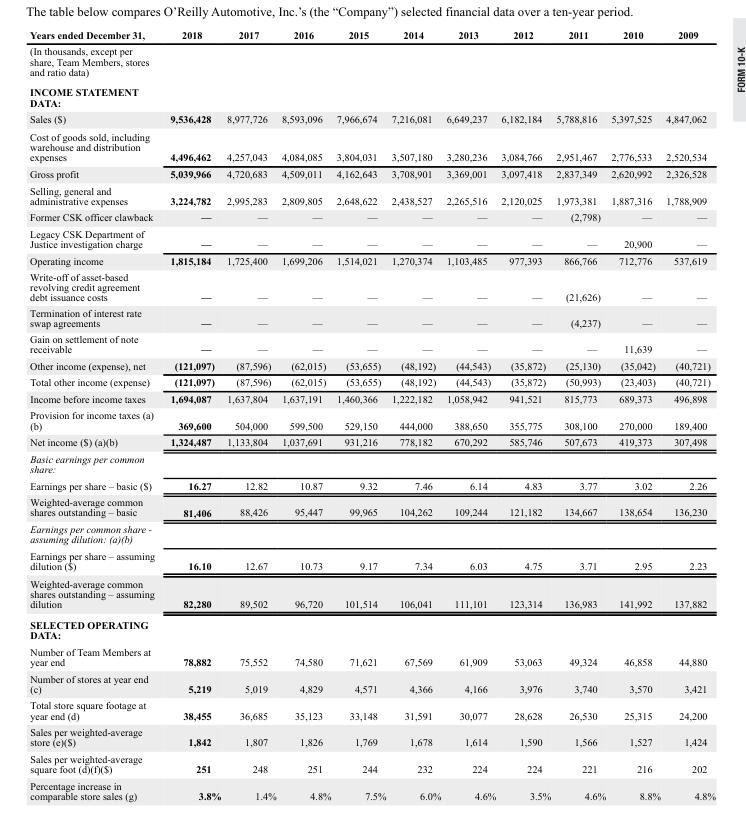table: (29, 28, 715, 801)
table column: (29, 28, 161, 801), (161, 28, 223, 801), (223, 28, 278, 801), (278, 28, 333, 801), (333, 28, 388, 801), (388, 28, 443, 801), (497, 28, 552, 801), (552, 28, 607, 801), (607, 28, 662, 801), (443, 28, 497, 801), (662, 28, 715, 801)
table column header: (29, 28, 715, 42)
table projected row header: (29, 42, 715, 81), (29, 81, 715, 110), (29, 614, 715, 642), (29, 520, 715, 547), (29, 450, 715, 476)
table row: (29, 574, 715, 614), (29, 42, 715, 81), (29, 127, 715, 165), (29, 268, 715, 304), (29, 81, 715, 110), (29, 614, 715, 642), (29, 181, 715, 208), (29, 225, 715, 252), (29, 330, 715, 357), (29, 406, 715, 433), (29, 493, 715, 520), (29, 520, 715, 547), (29, 547, 715, 574), (29, 642, 715, 669), (29, 669, 715, 696), (29, 696, 715, 723), (29, 723, 715, 750), (29, 750, 715, 777), (29, 304, 715, 330), (29, 450, 715, 476), (29, 777, 715, 801), (29, 110, 715, 127), (29, 208, 715, 225), (29, 373, 715, 390), (29, 433, 715, 450), (29, 476, 715, 493), (29, 165, 715, 181), (29, 252, 715, 268), (29, 357, 715, 373), (29, 390, 715, 406), (29, 28, 715, 42)
